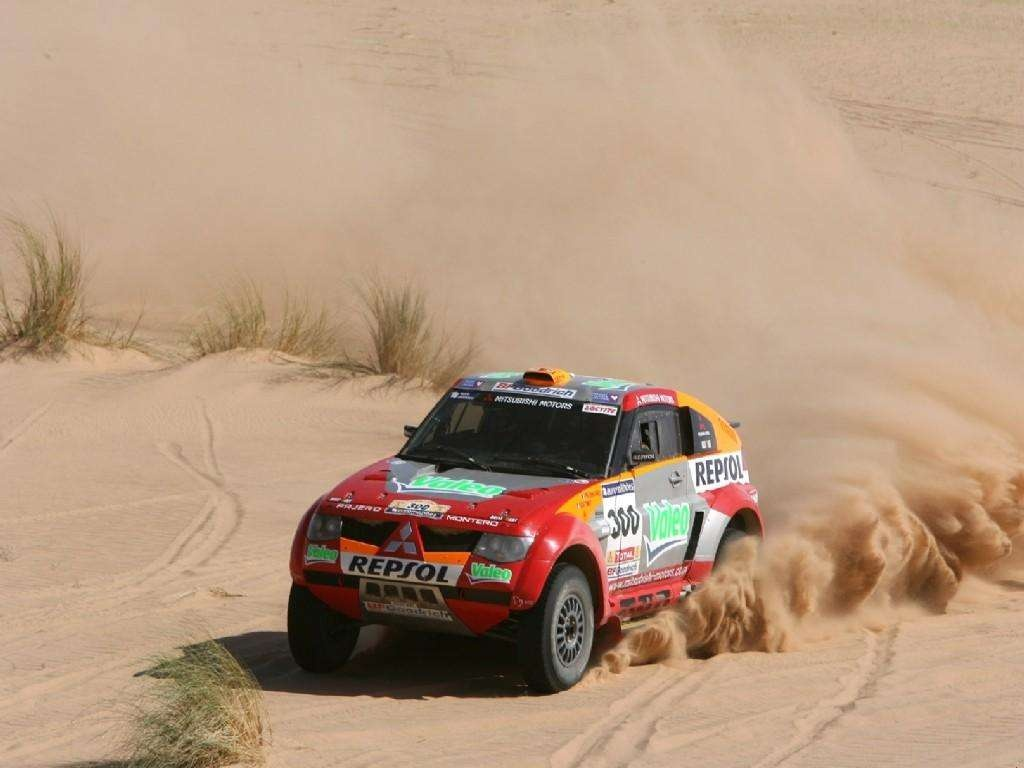racing car: (279, 353, 793, 685)
